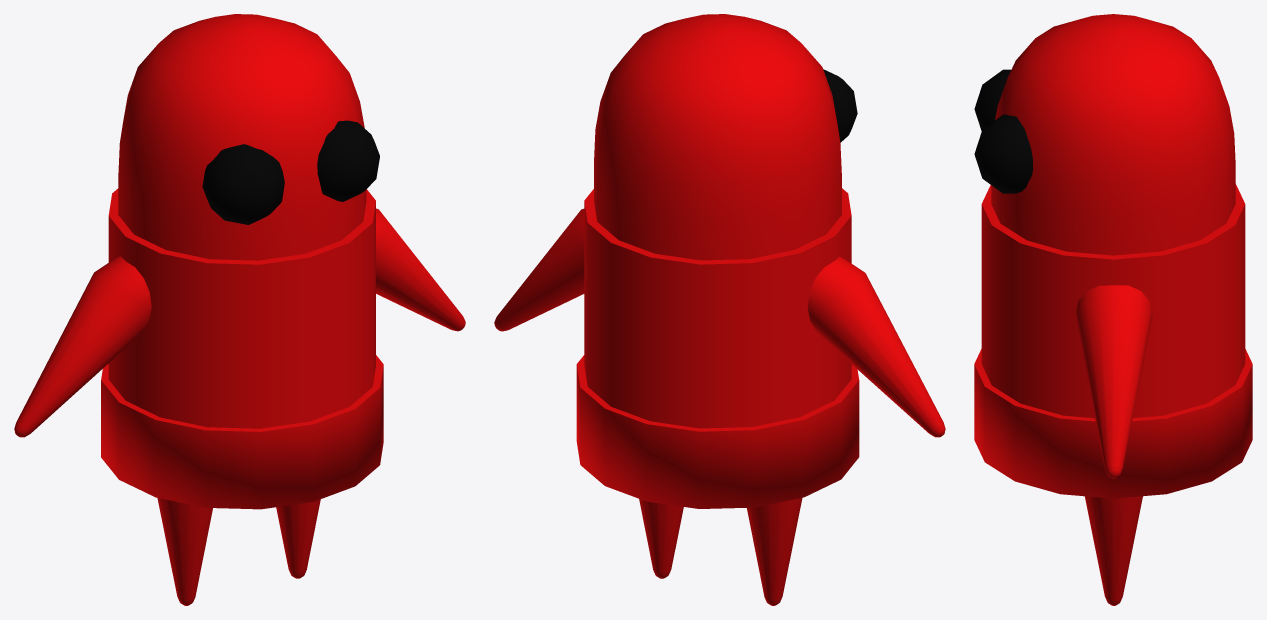
The model's file is CharPlayer.glb.
3 views of the same model, side by side, from view 1: azimuth 30°, elevation 25°; view 2: azimuth 150°, elevation 25°; view 3: azimuth 270°, elevation 25° (orthographic). The views are drawn at different scales.
Visible parts, largest first — view 1: Circle; view 2: Circle; view 3: Circle.
Boxes of the visible parts, left/top/right/bottom form: Circle: left=14, top=14, right=465, bottom=605; Circle: left=494, top=14, right=945, bottom=605; Circle: left=974, top=14, right=1252, bottom=605.
Bounding box in the file's own units: 1.55 × 1.86 × 0.8512.
2 materials, 1 textured.
